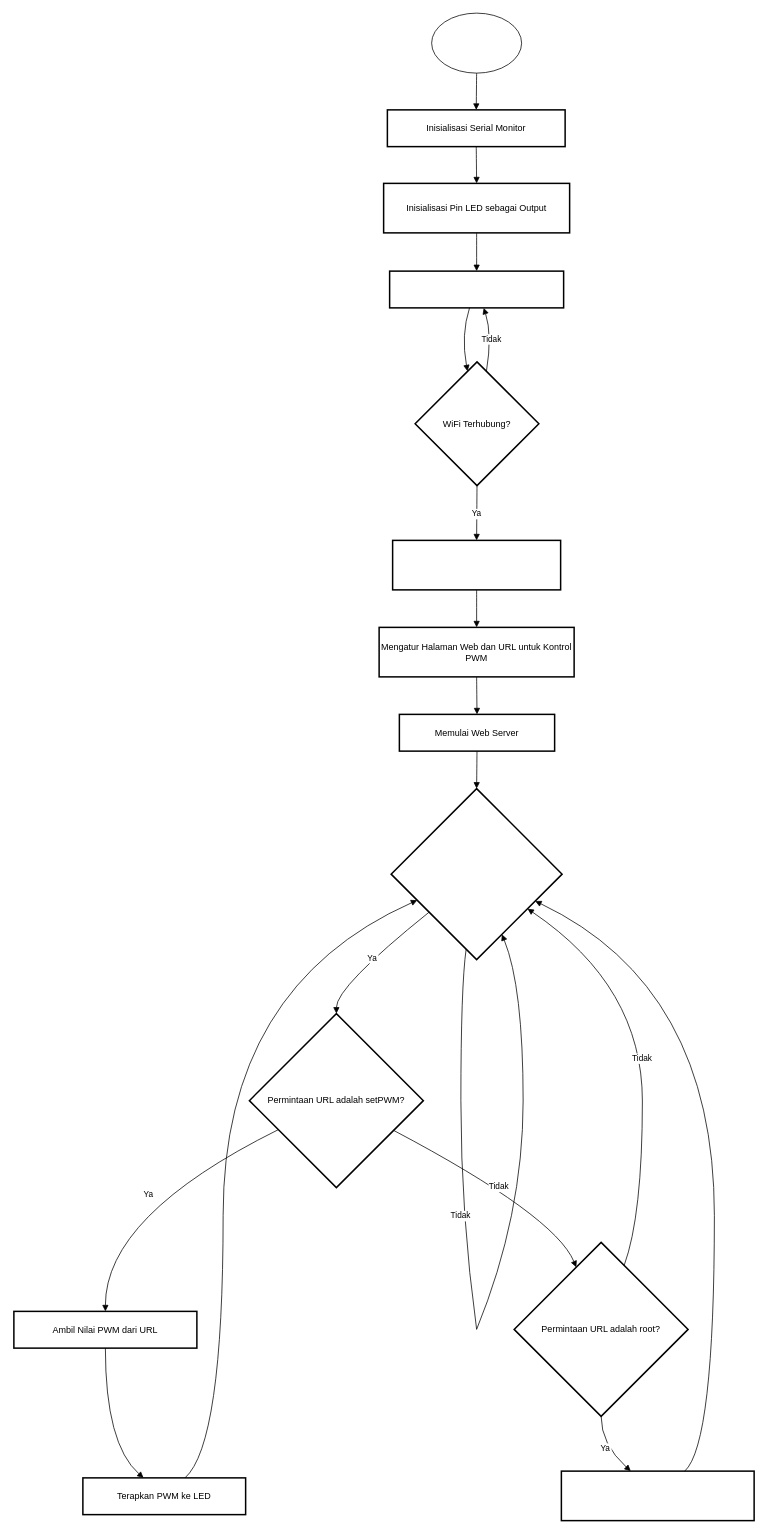
The diagram is 767 pixels wide and 1535 high, and some of its shapes have lost their labels. Here are the shapes that lost their labels. From the top down, the box of each, then its label:
(431, 12, 522, 73): Mulai Program
(388, 270, 564, 308): Menghubungkan ke WiFi
(392, 539, 561, 590): Tampilkan Alamat IP di Serial Monitor
(390, 788, 562, 960): Loop: Apakah Ada Permintaan dari Klien?
(560, 1470, 754, 1521): Tampilkan Halaman Kontrol LED
